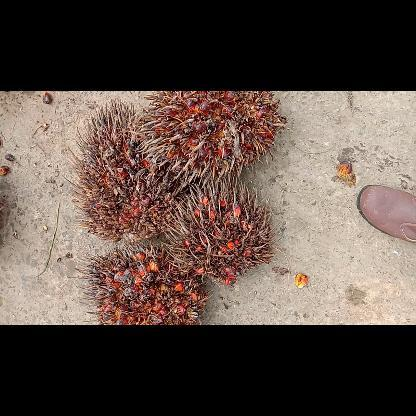Terlalu masak: (60, 94, 192, 244), (137, 90, 291, 188), (159, 176, 281, 288), (73, 234, 212, 324)
